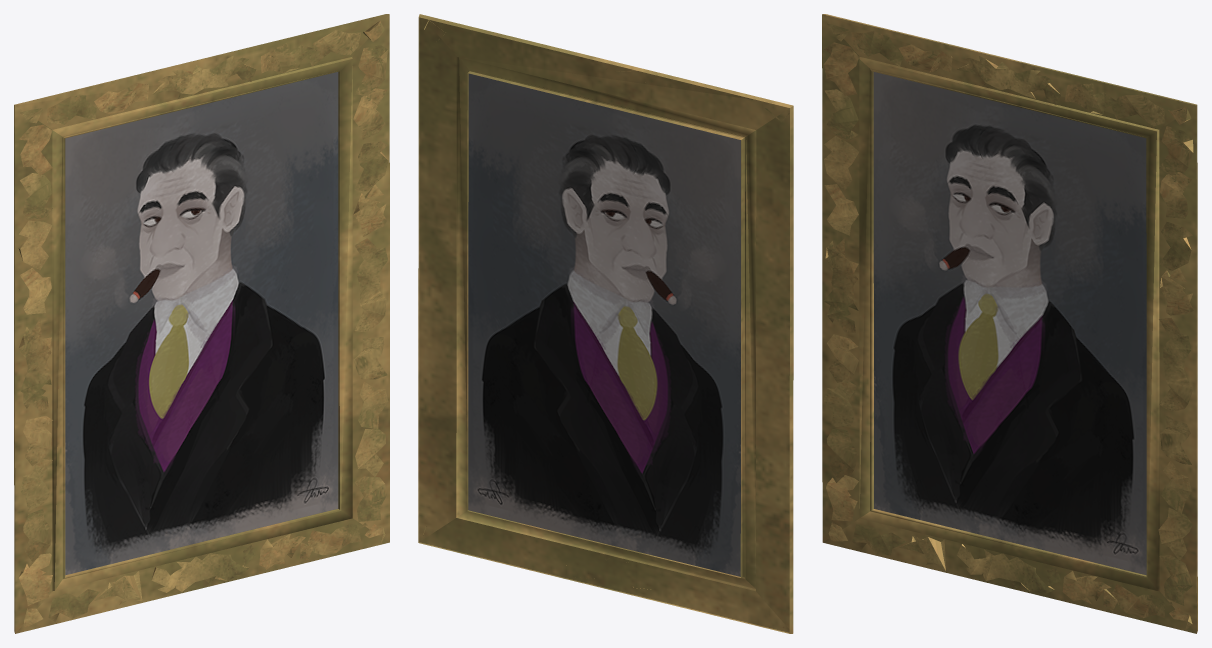
Rendered from portrait.glb.
The picture shows the model from 3 angles, left to right: view 1: azimuth 30°, elevation 25°; view 2: azimuth 150°, elevation 25°; view 3: azimuth 330°, elevation 25°; orthographic projection.
Parts seen in each view (by area): view 1: portrait; view 2: portrait; view 3: portrait.
Part boxes in pixels (<box>): portrait: <box>14,14,389,633</box>; portrait: <box>418,14,793,633</box>; portrait: <box>822,14,1197,633</box>.
Size of the model in its own units: 0.3572 by 0.4816 by 0.00742.
2 materials, 2 textured.
